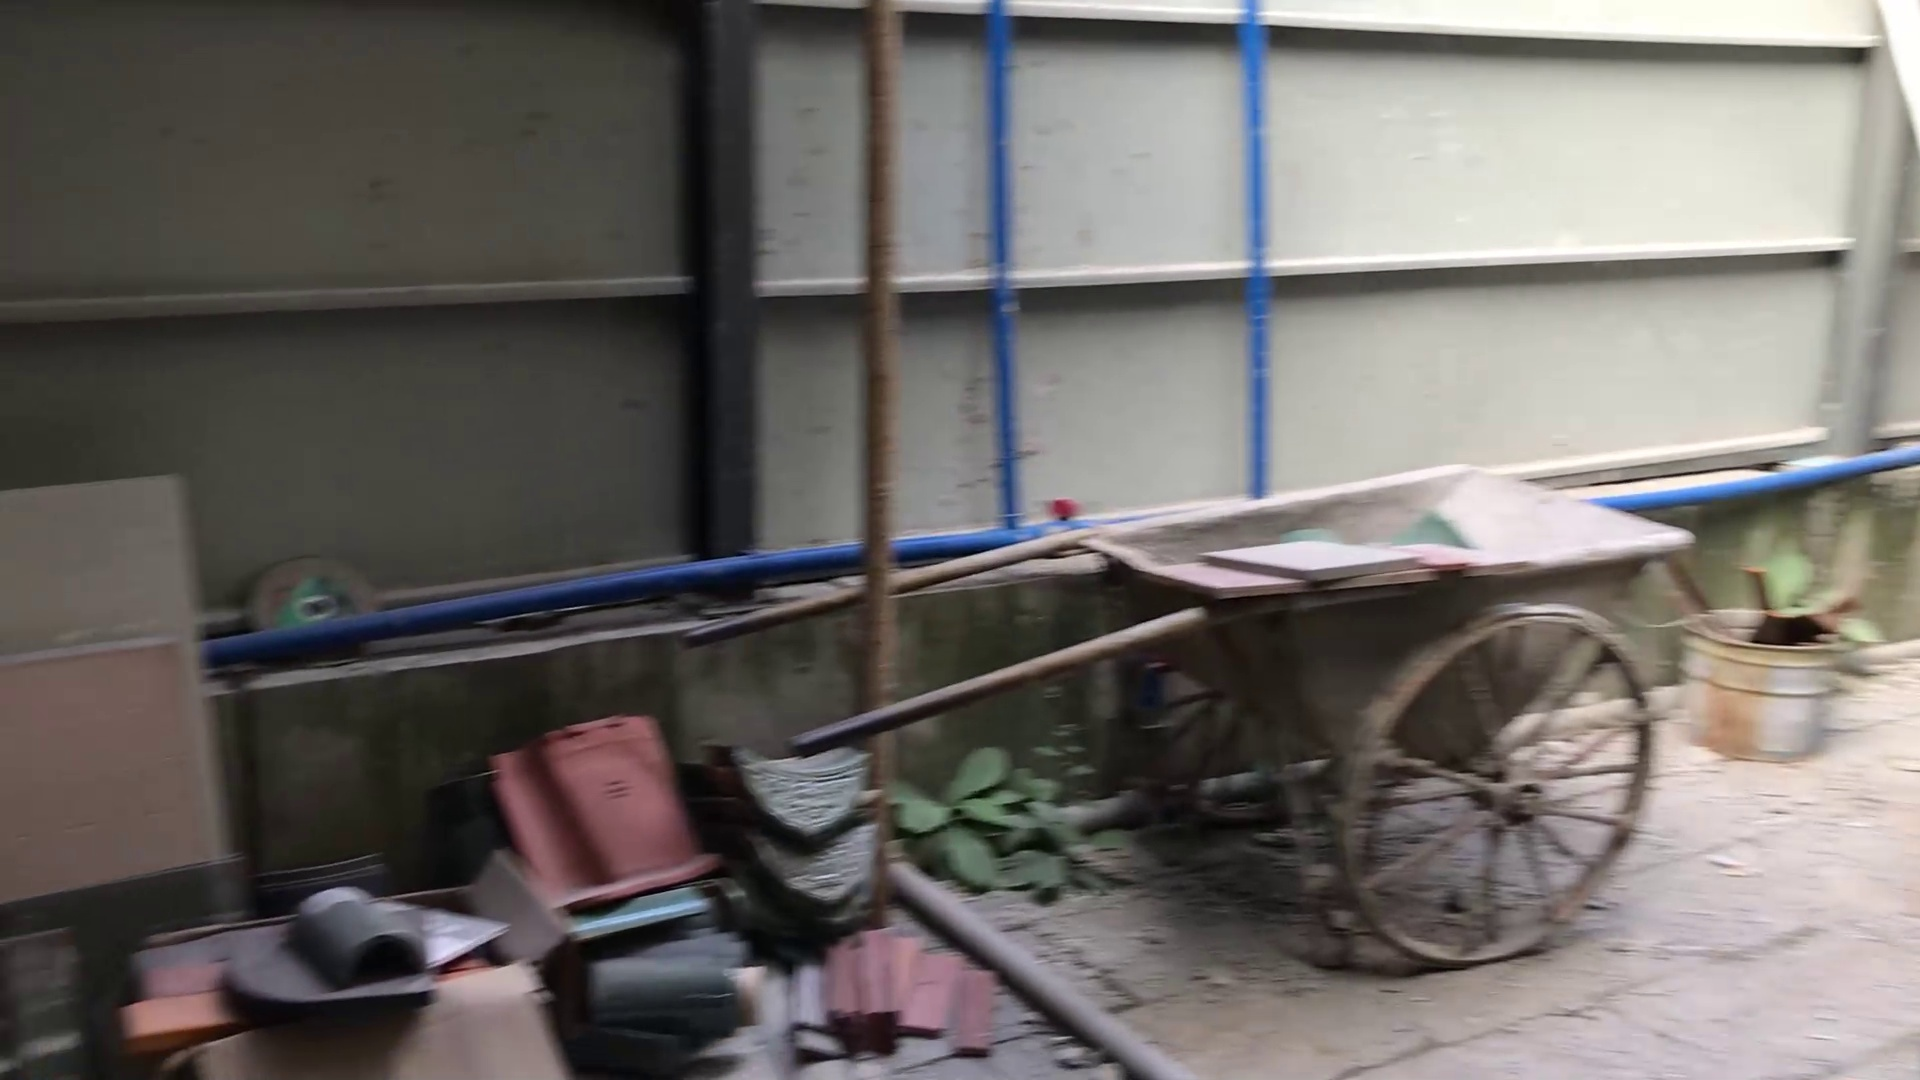handcart: (676, 469, 1712, 963)
